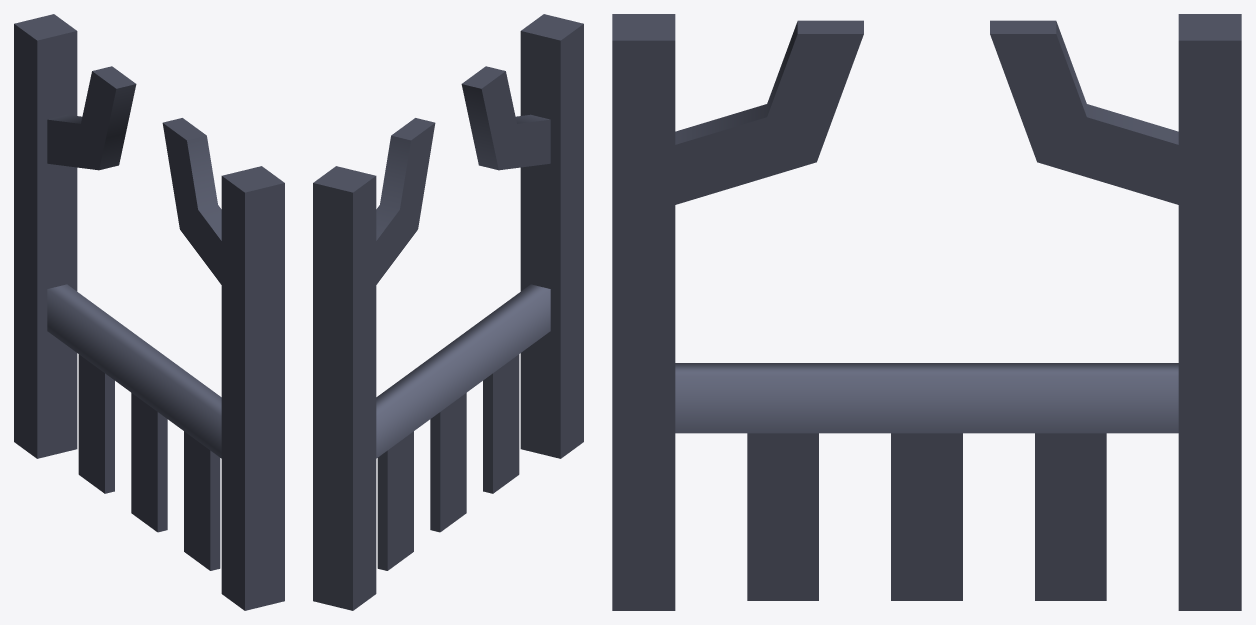
The model's file is balcony-wall-fence.glb.
3 renders of one model, left to right at view 1: azimuth 30°, elevation 25°; view 2: azimuth 150°, elevation 25°; view 3: azimuth 270°, elevation 25°, orthographic. The views are drawn at different scales.
Parts seen in each view (by area): view 1: balcony-wall-fence; view 2: balcony-wall-fence; view 3: balcony-wall-fence.
Boxes of the visible parts, left/top/right/bottom form: balcony-wall-fence: left=14, top=14, right=284, bottom=610; balcony-wall-fence: left=313, top=14, right=583, bottom=610; balcony-wall-fence: left=612, top=14, right=1241, bottom=610.
Size of the model in its own units: 0.1 by 1 by 1.
Materials: 1 (1 with a texture image).
